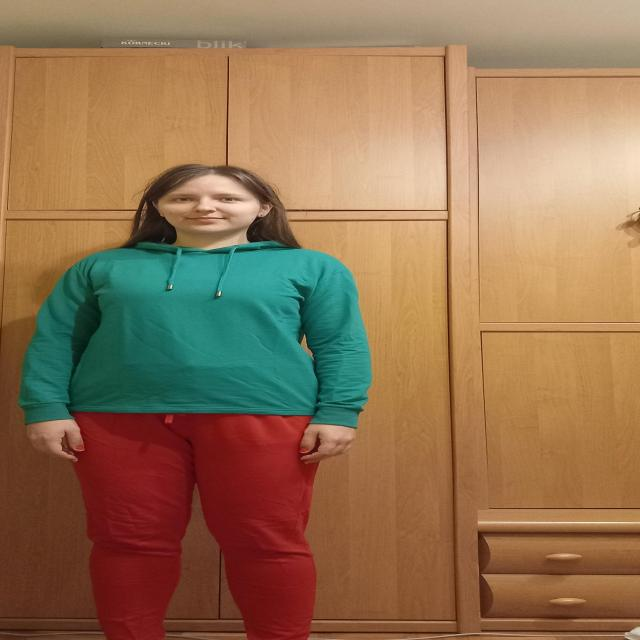pants: (69, 411, 322, 640)
sweater: (20, 240, 374, 428)
